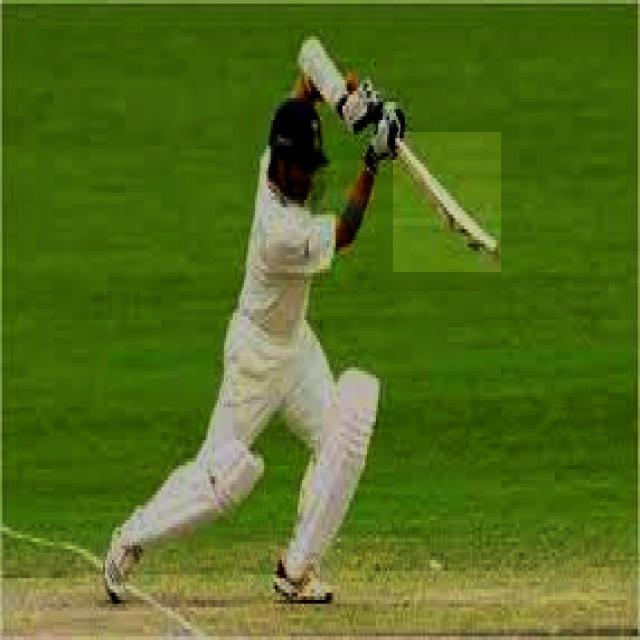bat: (394, 135, 503, 272)
toe: (490, 239, 503, 270)
